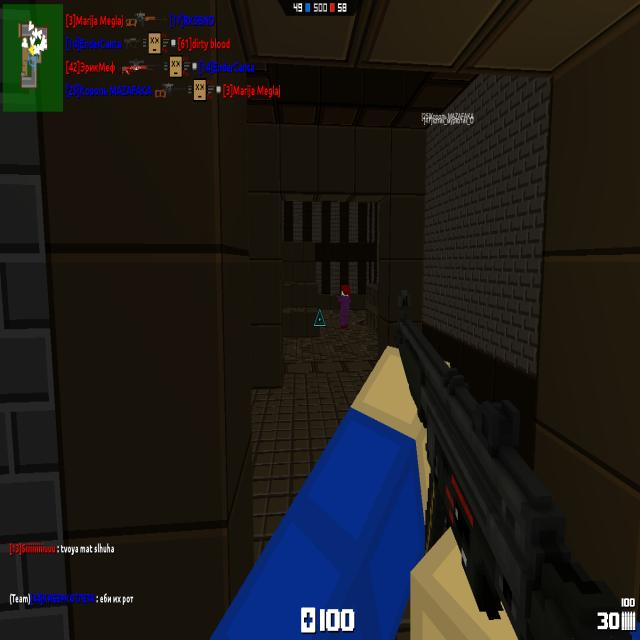enemy: (337, 282, 352, 330)
